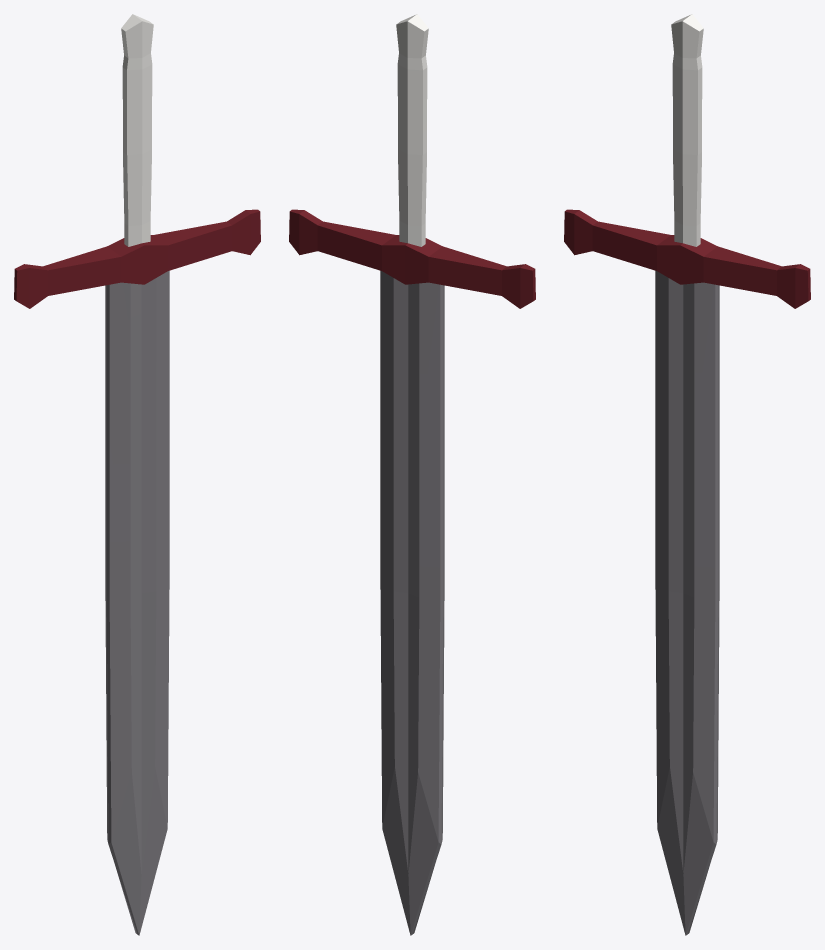
The model's file is Great Sword4 Model.fbx.
The picture shows the model from 3 angles, left to right: view 1: azimuth 30°, elevation 25°; view 2: azimuth 150°, elevation 25°; view 3: azimuth 330°, elevation 25°; orthographic projection.
Parts seen in each view (by area): view 1: Sword 4; view 2: Sword 4; view 3: Sword 4.
Boxes of the visible parts, left/top/right/bottom form: Sword 4: left=14, top=14, right=260, bottom=935; Sword 4: left=289, top=14, right=535, bottom=935; Sword 4: left=564, top=14, right=810, bottom=935.
Size of the model in its own units: 94.48 by 339 by 9.55.
